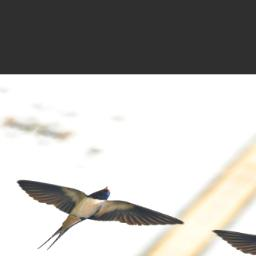Swallow: (0, 167, 201, 256)
